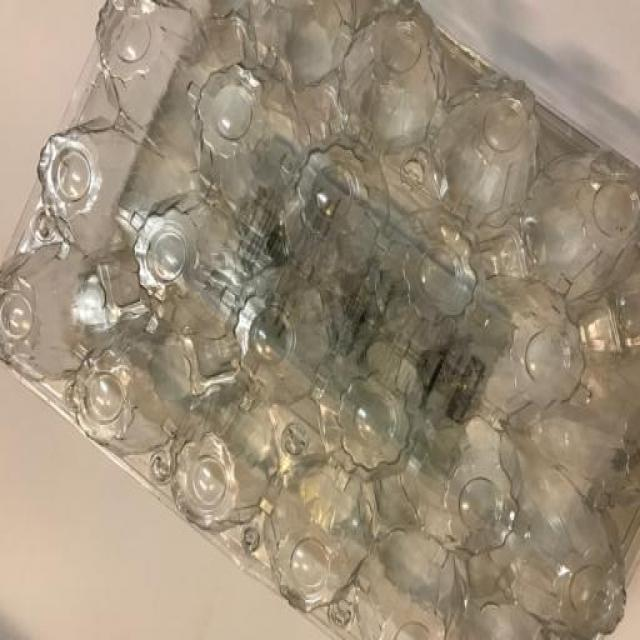plastic: (2, 10, 625, 640)
